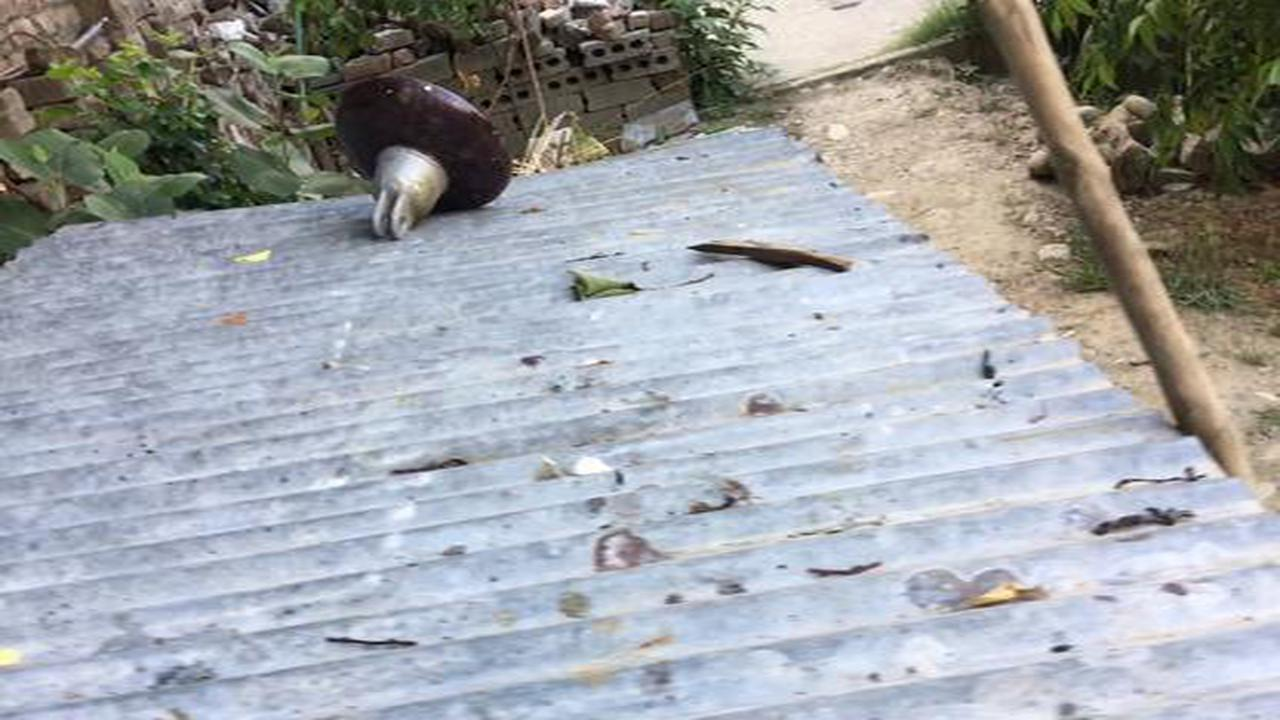insulator_disc: (332, 68, 518, 245)
